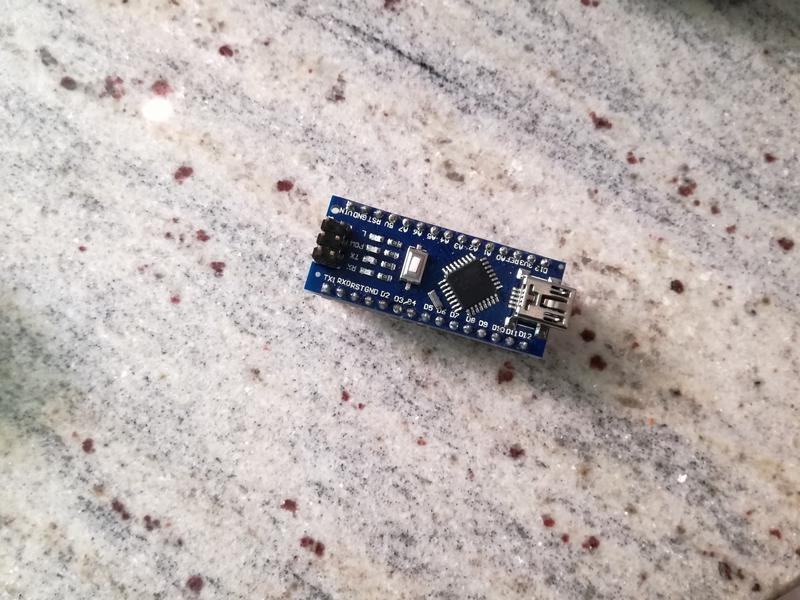Arduino_Nano: (299, 189, 587, 365)
